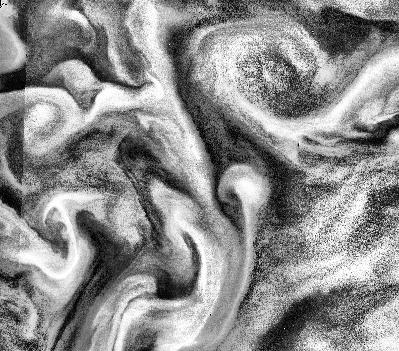AE: (188, 16, 332, 140), (14, 82, 82, 157)
